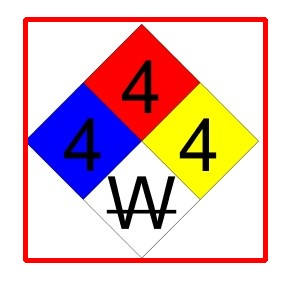nfpa: (25, 19, 265, 260)
